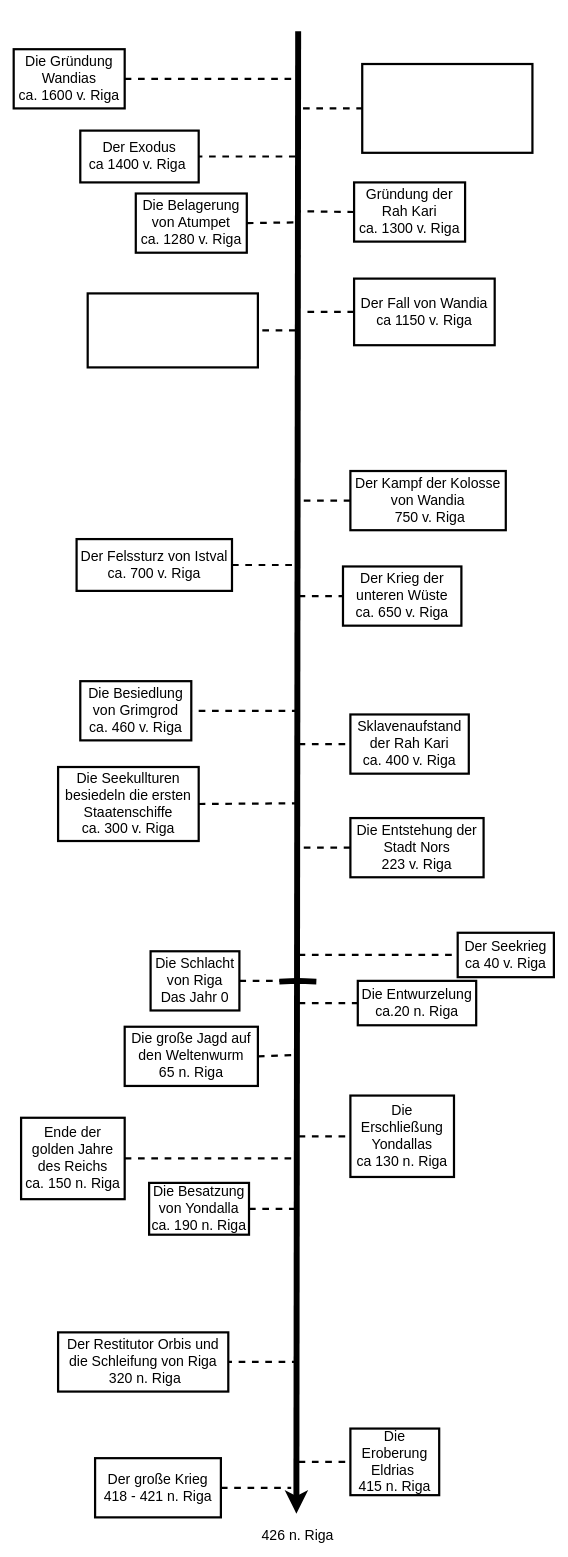
This 568x1557 diagram has some shape labels left out. Each missing label, with the box of its shape:
Beginn der Abschottung von Silva Nacia ca. 1125 v. Riga: (86, 292, 259, 368)
Beginn des Zwergischen Bürgerkriegs ca. 1500 v. Riga: (361, 63, 533, 154)
